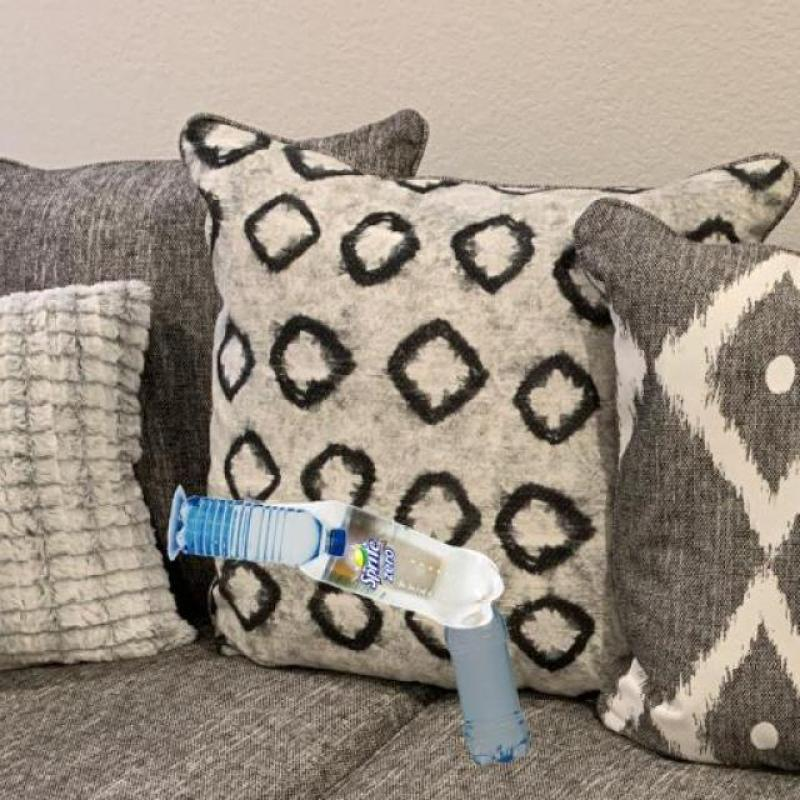botella: (236, 500, 504, 631), (444, 607, 530, 765), (176, 496, 346, 565)
